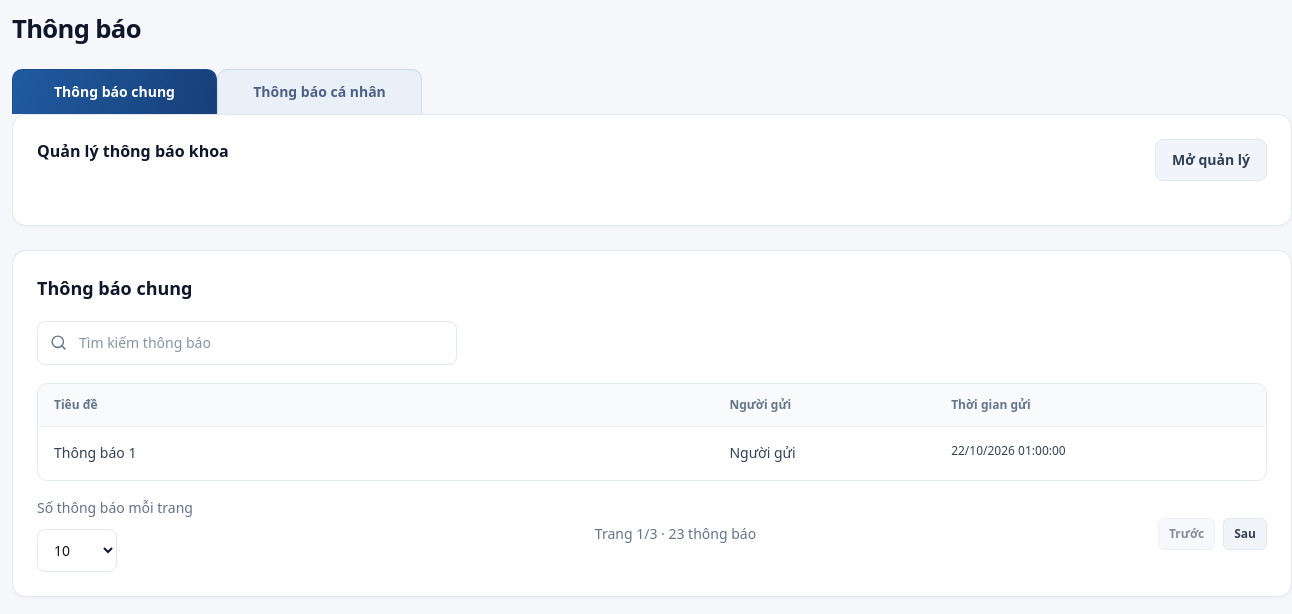
Test case: ignores stale search responses and keeps the search box mounted while loading
The image size is (1292, 614).
Expected: the button "Thông báo 1" is shown, [54,442,136,465]
Type "cũ" into the search field named "Tìm kiếm thông báo chung" at (260, 343), box [77,322,444,364]
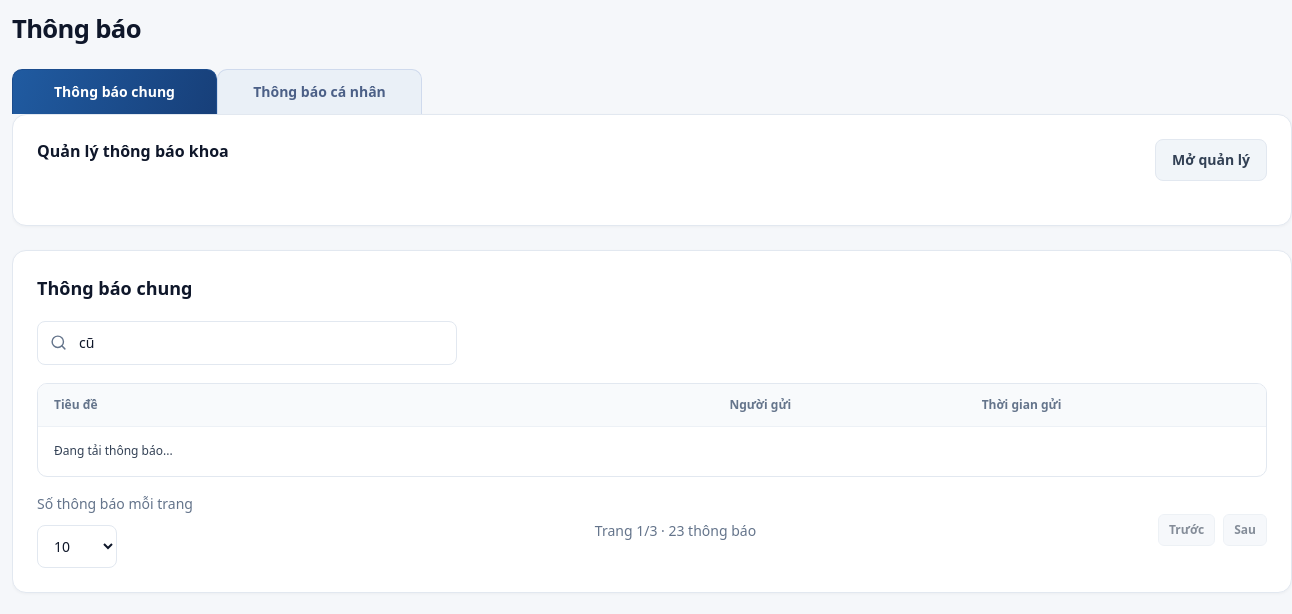
Expected: the message shows "Đang tải", [54,442,173,459]
Replace the text in the search field named "Tìm kiếm thông báo chung" with "mới" at (260, 343), box [77,322,444,364]
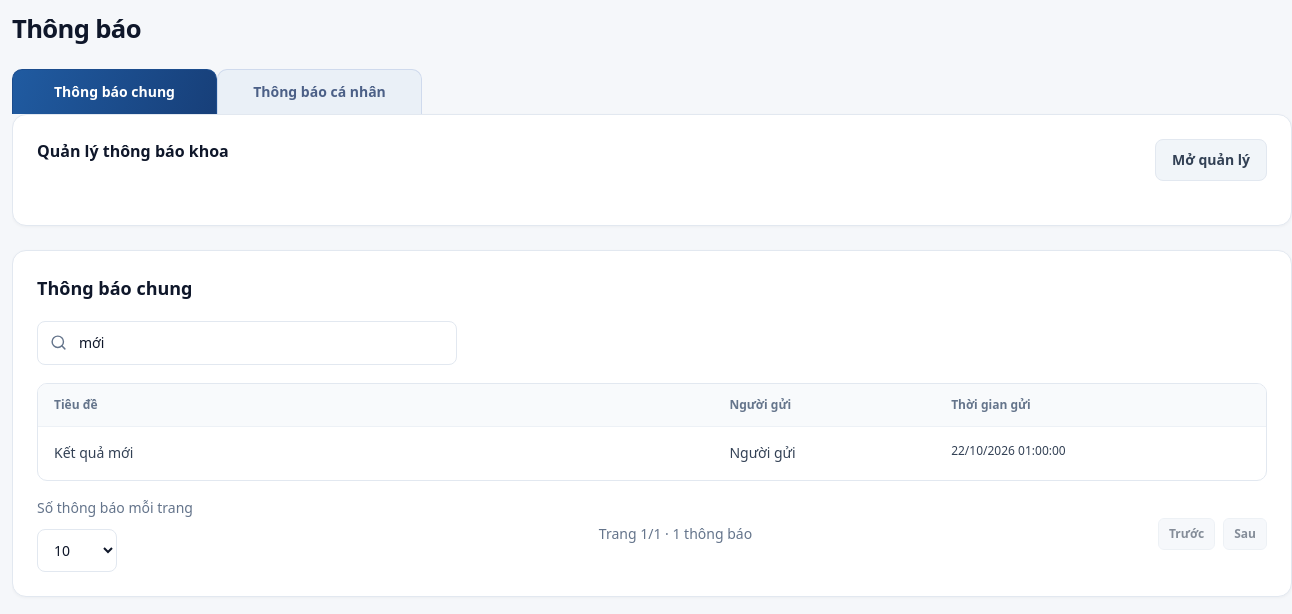
Expected: the button "Kết quả mới" is shown, [54,442,133,465]
